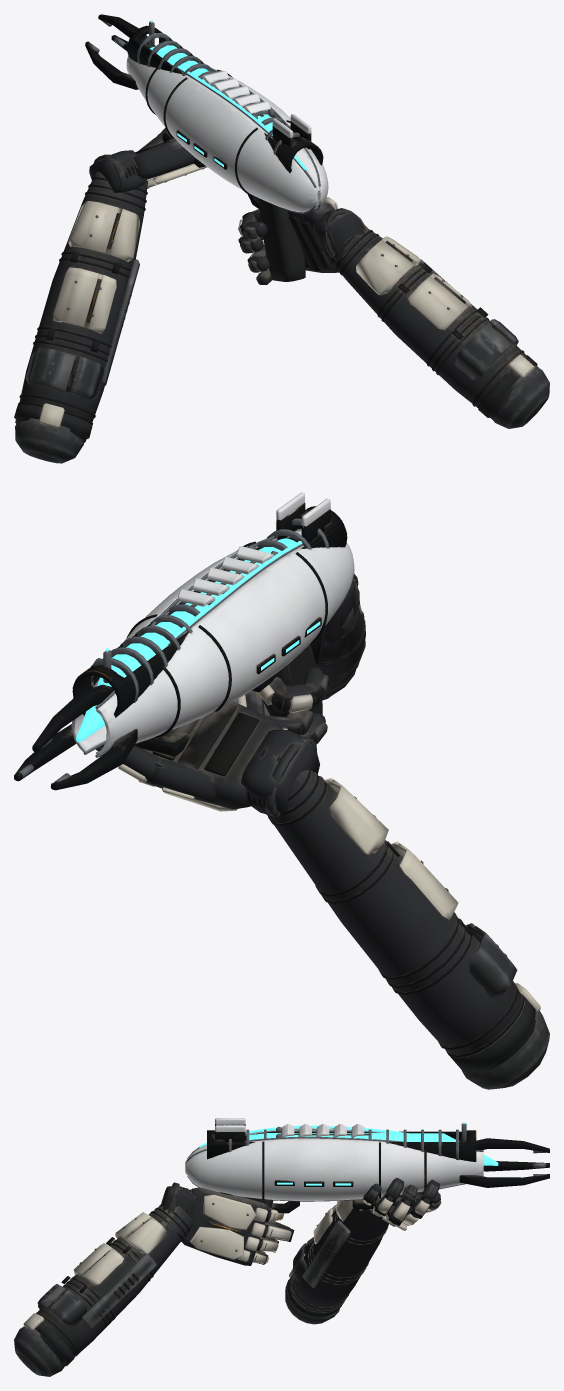
The model's file is arc.glb.
3 renders of one model, top to bottom at view 1: azimuth 30°, elevation 25°; view 2: azimuth 150°, elevation 25°; view 3: azimuth 270°, elevation 25°, orthographic. The views are drawn at different scales.
Parts seen in each view (by area): view 1: arm_l, arm_r, body, arc_world, vent, core; view 2: arm_l, body, arc_world, arm_r, core, vent; view 3: arm_r, body, arm_l, arc_world, core, vent.
Boxes of the visible parts, <box> form: arm_l: <box>14,128,207,463</box>; arm_r: <box>238,197,549,428</box>; body: <box>85,14,328,281</box>; arc_world: <box>86,15,328,281</box>; vent: <box>202,71,270,116</box>; core: <box>151,45,306,169</box>; arm_l: <box>93,658,549,1089</box>; body: <box>14,492,354,790</box>; arc_world: <box>14,492,354,790</box>; arm_r: <box>234,573,365,743</box>; core: <box>76,538,320,742</box>; vent: <box>178,546,273,607</box>; arm_r: <box>14,1182,294,1376</box>; body: <box>185,1118,549,1222</box>; arm_l: <box>285,1177,441,1324</box>; arc_world: <box>185,1119,549,1222</box>; core: <box>199,1125,498,1185</box>; vent: <box>280,1123,368,1137</box>.
Size of the model in its own units: 0.4823 by 0.4179 by 0.7363.
3 materials, 1 textured.
